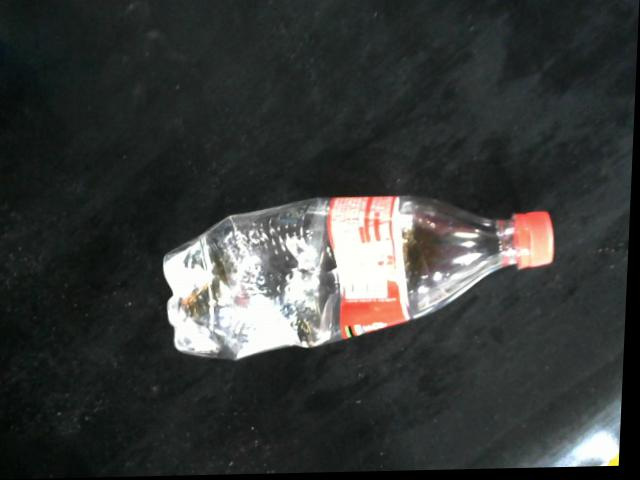bottle: (165, 195, 558, 363)
